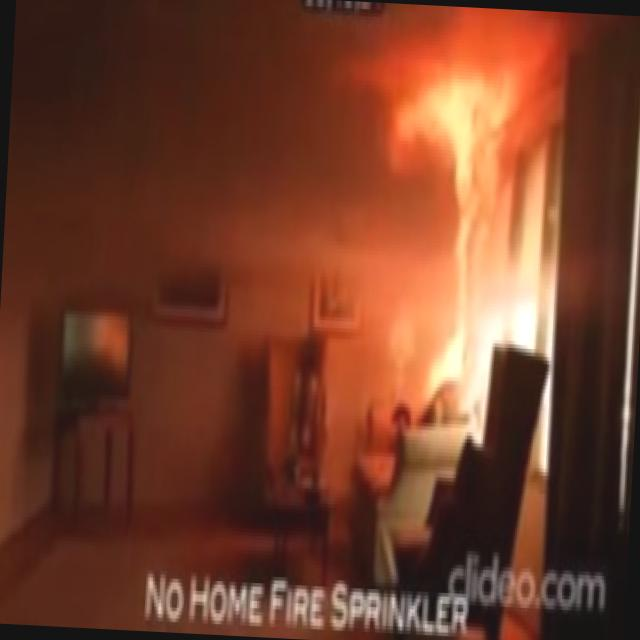fire: (370, 5, 536, 458)
